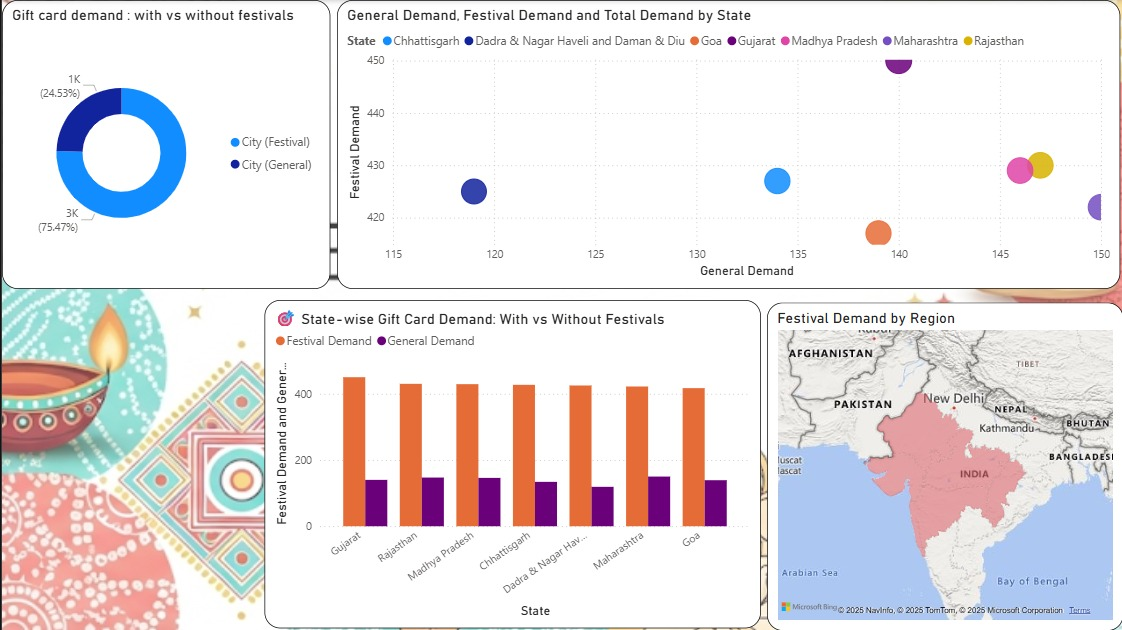

What the dashboard file says about the page in this screenshot:
{"tool":"powerbi","page":{"name":"Page 2","canvas":[1280,720],"ordinal":1},"visuals":[{"type":"filledMap","title":"Festival Demand by Region","fields":{"Category":["Festival.State"]},"box":[870.2,344.2,405.5,373.2],"z":0},{"type":"donutChart","title":"Gift card demand : with vs without festivals","fields":{"Y":["Festival.City (Festival)","General.City (General)"]},"box":[0,0,373.8,328.8],"z":1000},{"type":"scatterChart","fields":{"X":["General.General Demand"],"Y":["Festival.Festival Demand"],"Size":["Festival.Total Demand"],"Series":["States.State"]},"box":[381.2,0,891.2,328.8],"z":2000},{"type":"clusteredColumnChart","title":"🎯 State-wise Gift Card Demand: With vs Without Festivals","fields":{"Category":["States.State"],"Y":["Festival.Festival Demand","General.General Demand"]},"box":[298.8,341.2,565,373.8],"z":3000}]}

Visuals, with their boxes in screenshot pixels (x1, y1, x2, y2), scaled from the page's 1280x720 canvas onto the 1122x630 screenshot:
"Festival Demand by Region" filledMap: 763,301,1118,628
"Gift card demand : with vs without festivals" donutChart: 0,0,328,288
scatterChart - General.General Demand x Festival.Festival Demand: 334,0,1115,288
"🎯 State-wise Gift Card Demand: With vs Without Festivals" clusteredColumnChart: 262,299,757,626
